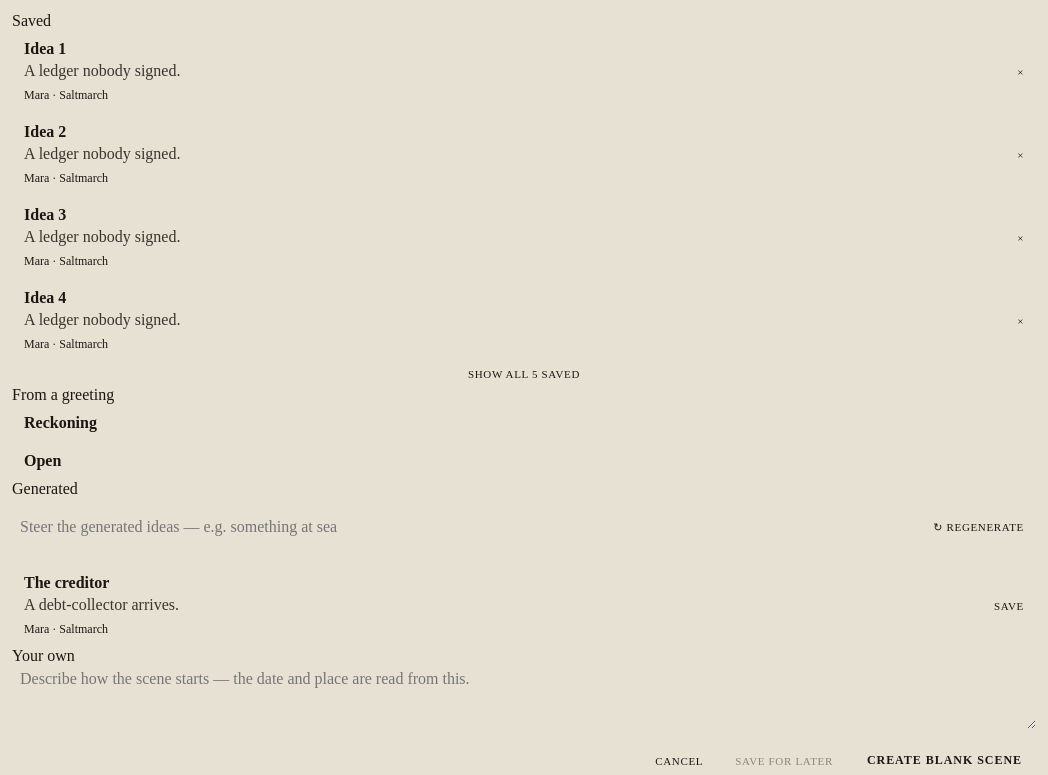
it: the saved group has a slot budget, with everything behind a toggle
Check: the text "Idea 1" is shown, box x1=24 y1=40 x2=66 y2=58
Check: the text "Idea 5" is not shown
Click the button "Show all 5 saved": (524, 374) x1=12 y1=362 x2=1036 y2=386
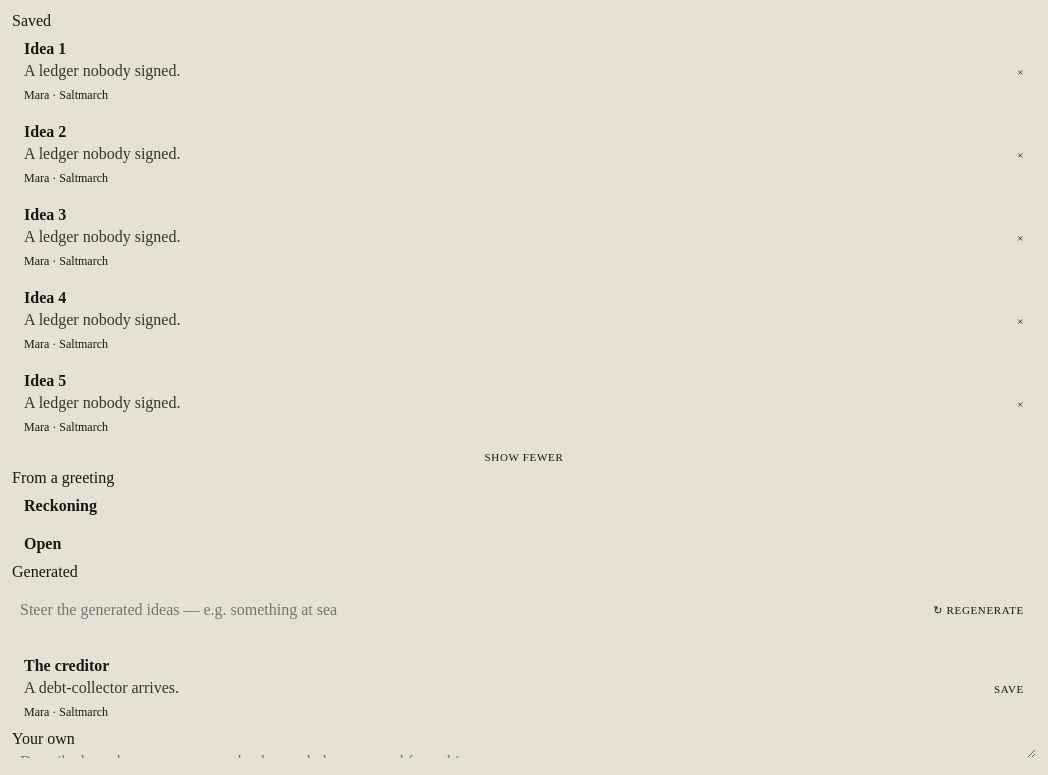
Check: the text "Idea 5" is shown, box x1=24 y1=372 x2=66 y2=390
